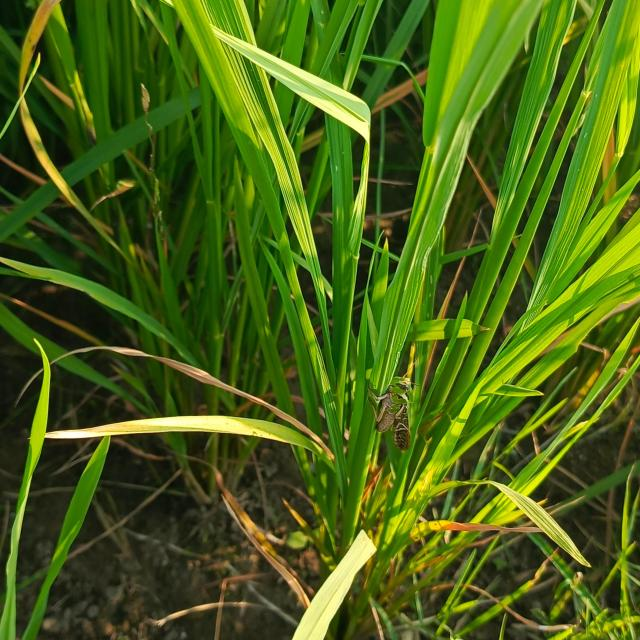belalang pada tanaman padi: (365, 374, 415, 452)
